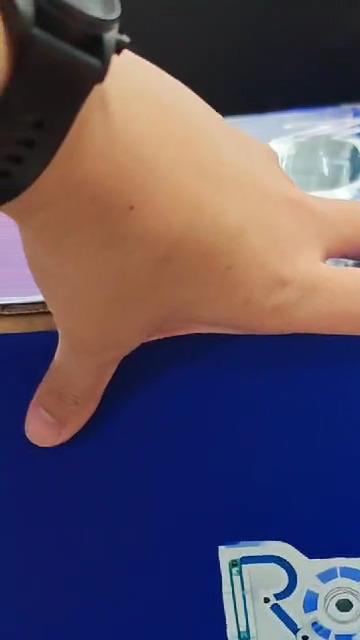B_R1: (70, 515, 360, 640)
